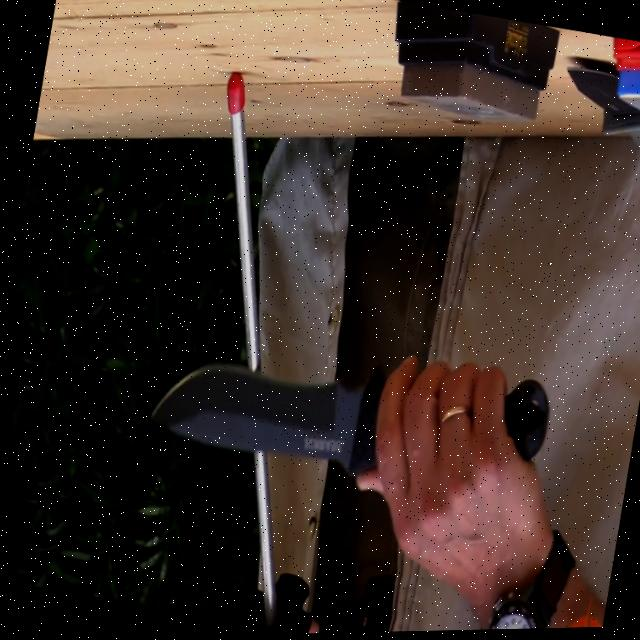knife: (140, 309, 556, 511), (550, 63, 640, 177)
